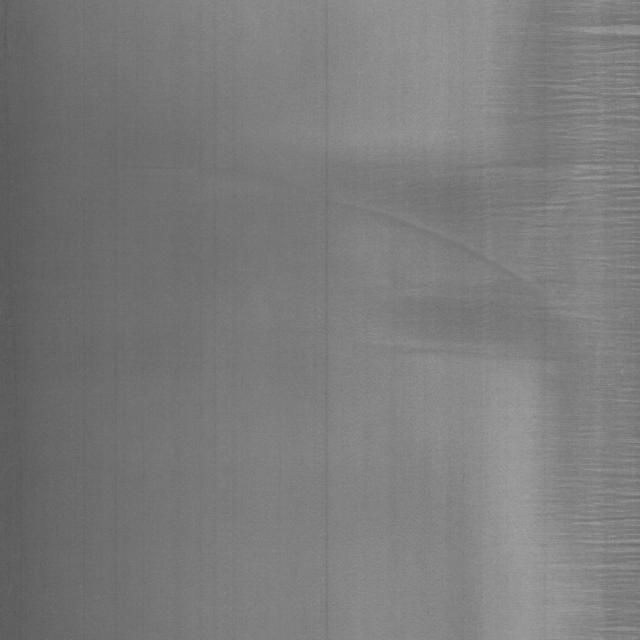punching_hole: (458, 23, 640, 550)
